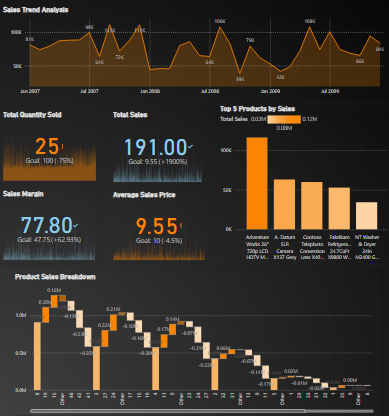

Layout of this report page (visuals, bound fields, positions):
{"tool":"powerbi","page":{"name":"Sales Overview","canvas":[1000,1200],"ordinal":0},"visuals":[{"type":"columnChart","title":"Top 5 Products by Sales ","fields":{"Category":["Product.Product Name"],"Y":["Sales.Top 5 Products by Sales"]},"box":[554.4,420,415.2,384],"z":0},{"type":"lineChart","title":"Sales Trend Analysis","fields":{"Y":["Sales.Total Sales"],"Category":["Sales.Order Date.Variation.Date Hierarchy.Year","Sales.Order Date.Variation.Date Hierarchy.Month"]},"box":[33.3,183.3,936.7,233.3],"z":1000},{"type":"waterfallChart","title":"Product Sales Breakdown","fields":{"Category":["Product Category.ProductCategoryKey"],"Breakdown":["Product Subcategory.ProductSubcategoryKey"],"Y":["Sales.Total Sales"]},"box":[62.4,823.2,871.2,343.2],"z":2000},{"type":"kpi","title":"Total Sales","fields":{"Indicator":["Sales.Total Sales"],"TrendLine":["Sales.Order Date"],"Goal":["Sales.Sales Target"]},"box":[297.6,434.4,223.2,177.6],"z":3000},{"type":"kpi","title":"Average Sales Price","fields":{"Indicator":["Sales.Average Sales Price"],"TrendLine":["Sales.Order Date"],"Goal":["Sales.Average Price Target"]},"box":[297.6,626.4,230.4,172.8],"z":4000},{"type":"kpi","title":"Sales Margin","fields":{"Indicator":["Sales.Sales Margin"],"TrendLine":["Sales.Order Date"],"Goal":["Sales.Margin Target"]},"box":[33.6,624,230.4,175.2],"z":5000},{"type":"kpi","title":"Total Quantity Sold","fields":{"Indicator":["Sales.Total Quantity Sold"],"TrendLine":["Sales.Order Date"],"Goal":["Sales.Quantity Target"]},"box":[33.6,434.4,232.8,175.2],"z":6000},{"type":"textbox","box":[0,33.3,413.3,80],"z":7000},{"type":"pageNavigator","box":[191.7,113.3,660,50],"z":8000}]}

Visuals, with their boxes on the page's 1000x1200 design canvas (x1, y1, x2, y2). These are canvas units, not pixel positions in the 389x416 screenshot, which may show the page scaled, cropped or inside an application window:
"Top 5 Products by Sales " columnChart: region(554, 420, 970, 804)
"Sales Trend Analysis" lineChart: region(33, 183, 970, 417)
"Product Sales Breakdown" waterfallChart: region(62, 823, 934, 1166)
"Total Sales" kpi: region(298, 434, 521, 612)
"Average Sales Price" kpi: region(298, 626, 528, 799)
"Sales Margin" kpi: region(34, 624, 264, 799)
"Total Quantity Sold" kpi: region(34, 434, 266, 610)
textbox: region(0, 33, 413, 113)
pageNavigator: region(192, 113, 852, 163)
